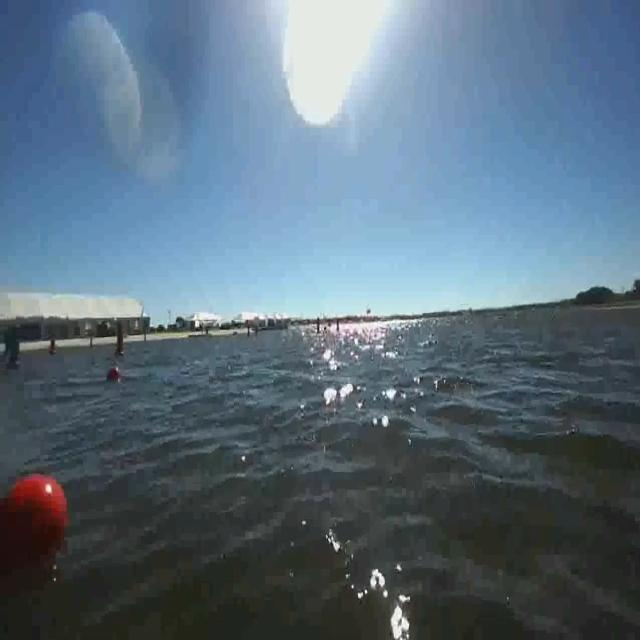red-buoy: (1, 476, 66, 554), (107, 366, 121, 384)
